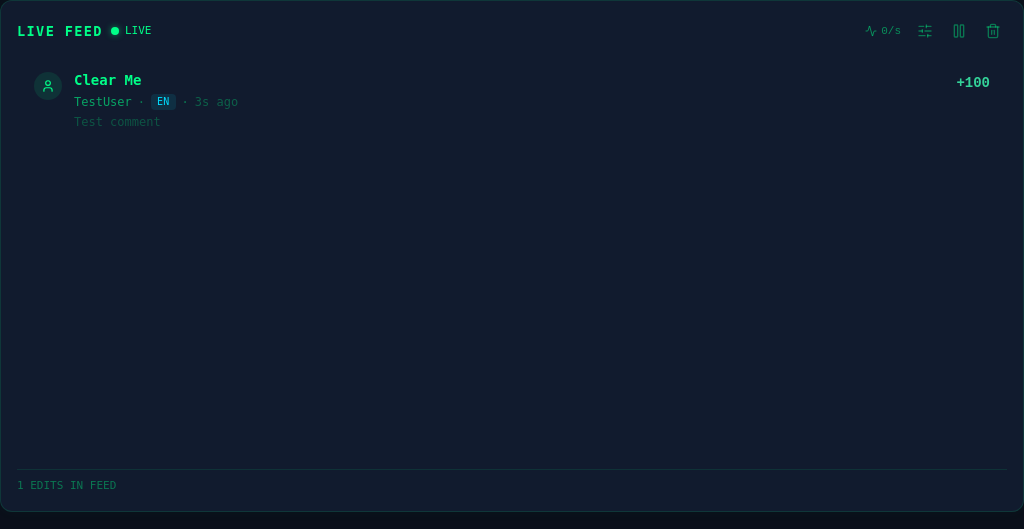
Test case: LiveFeed › clear button removes all edits
This screenshot has width=1024, height=529.
Expected: the heading "Clear Me" is shown, [74,70,141,90]
Click the button named "Clear feed": point(993, 31) [979,17,1007,45]
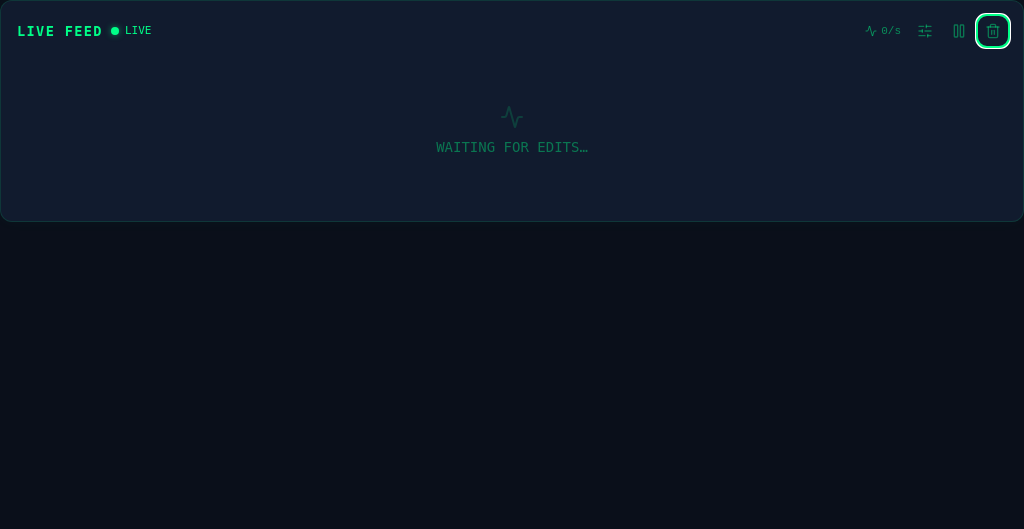
Result: the button "Clear Me" is gone
